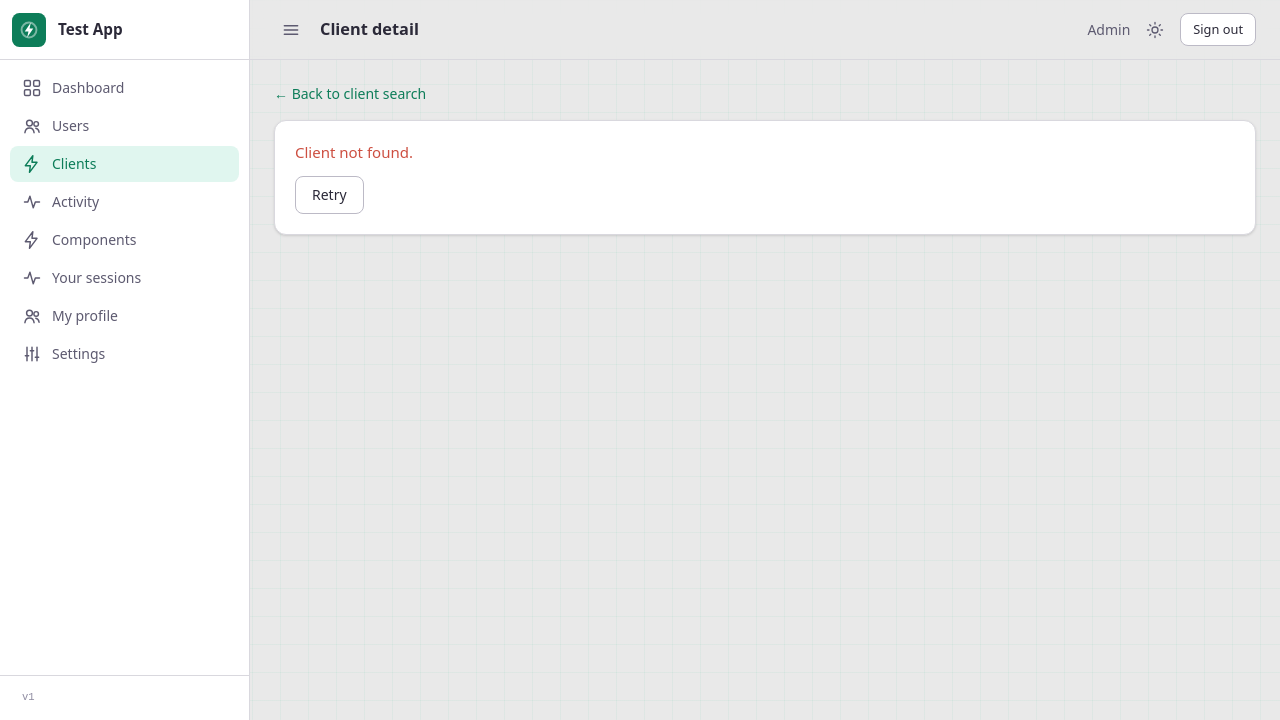
Test: client management › handles missing clients without fetching the search list
Check: the message shows "Client not found.", box [295,142,413,162]
Click the link "← Back to client search" at (350,94), box [274,84,426,104]
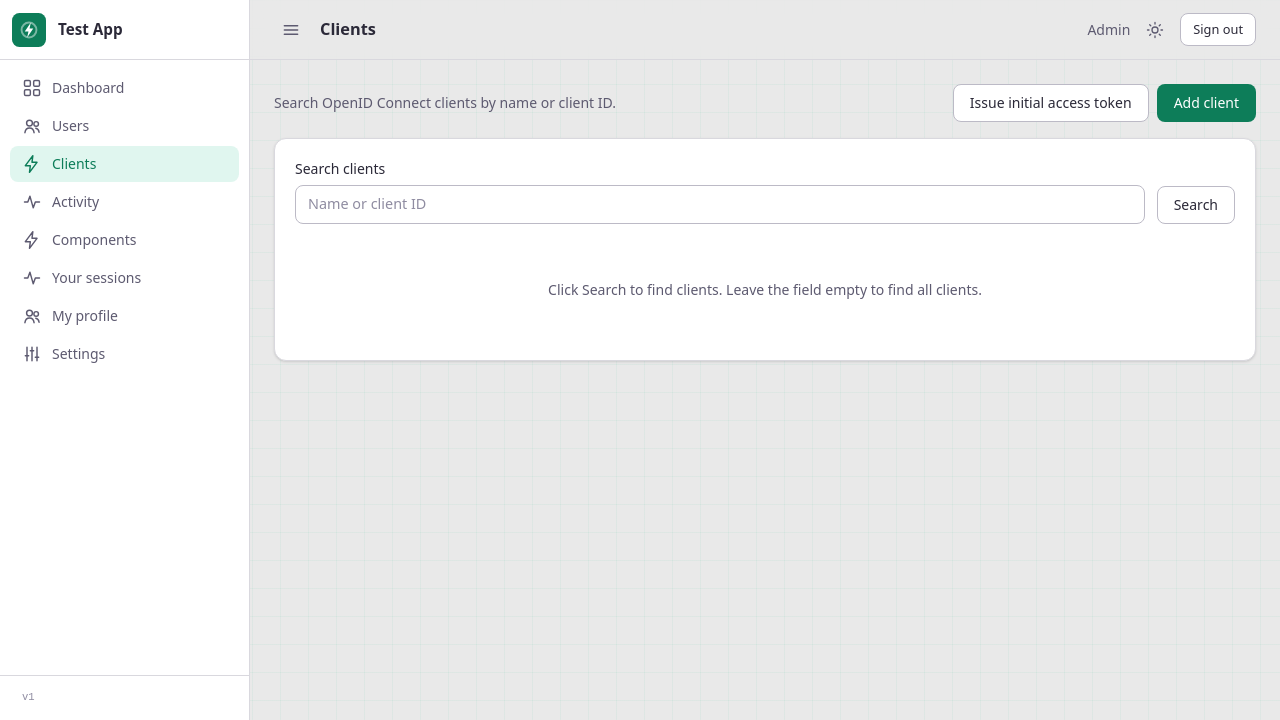
Check: the search field labelled "Search clients" is shown, box [295,185,1145,224]
